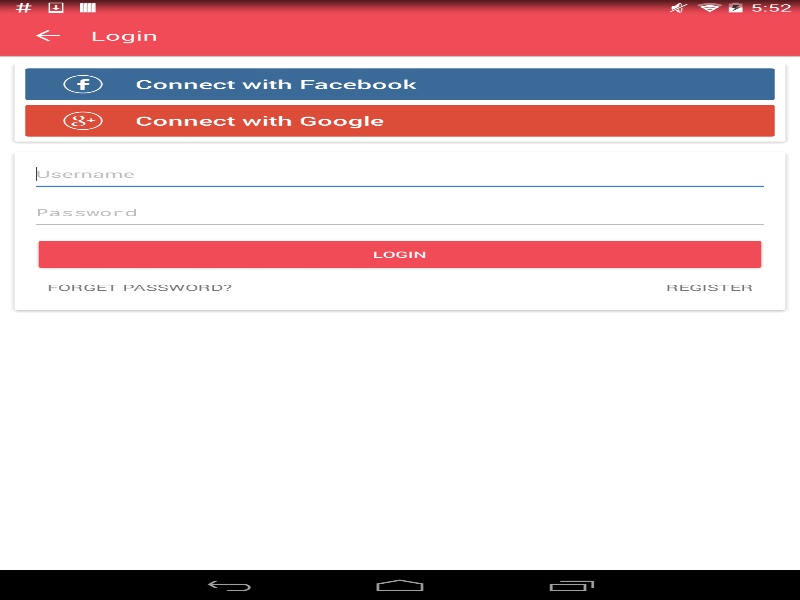Button: (10, 15, 85, 55)
Input: (36, 200, 764, 229), (36, 162, 764, 190)
